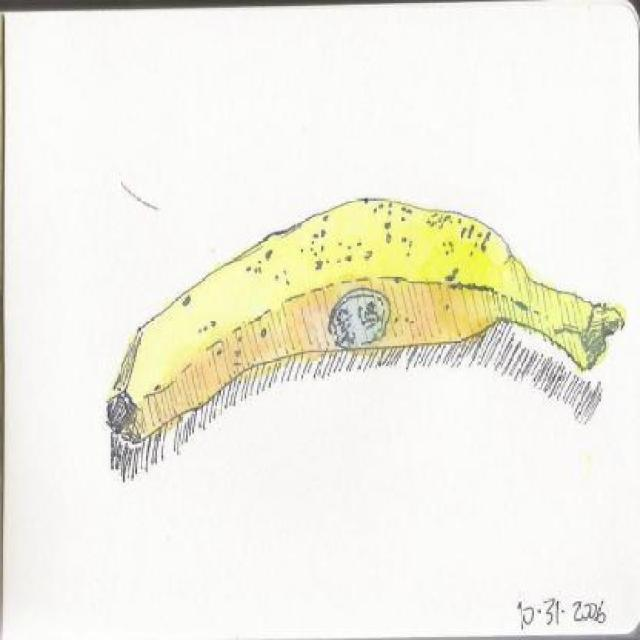Banana: (74, 178, 640, 460)
